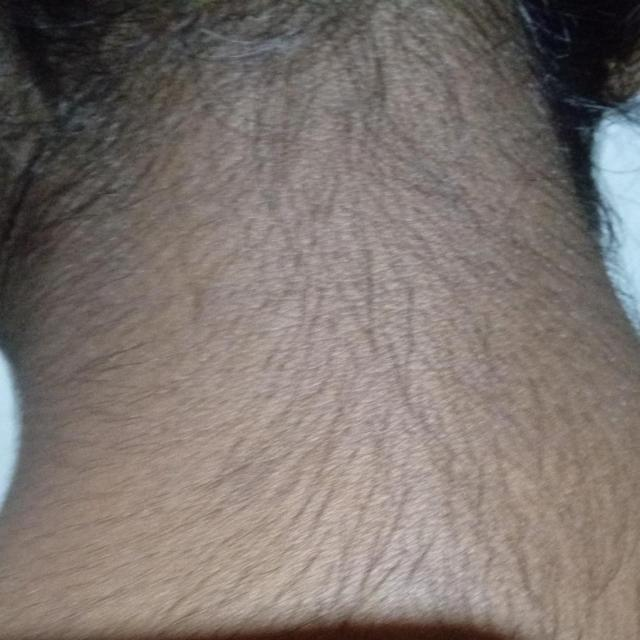Healthy: (3, 4, 640, 640)
